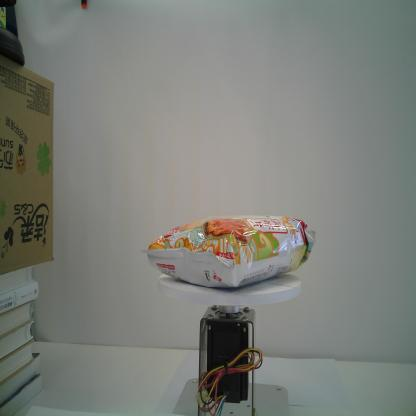Puffed Food: (138, 210, 318, 292)
